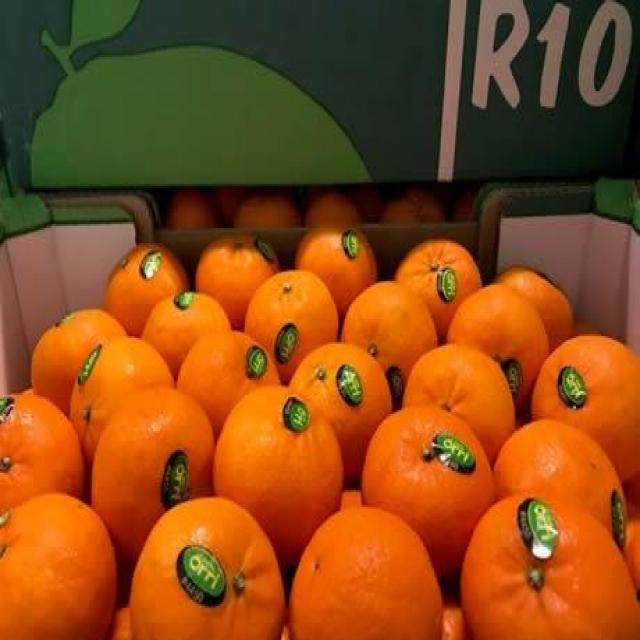10_tangerine: (451, 486, 639, 640), (207, 388, 350, 557), (286, 490, 444, 640), (129, 491, 287, 640), (356, 404, 496, 572), (89, 390, 205, 558), (495, 416, 626, 562), (0, 493, 118, 640), (528, 328, 640, 476), (63, 331, 175, 466), (396, 345, 518, 466), (290, 338, 392, 479), (446, 284, 556, 406), (171, 326, 283, 444), (336, 277, 435, 402), (0, 392, 83, 534), (28, 306, 128, 414), (244, 268, 340, 377), (134, 290, 239, 373), (107, 237, 190, 336), (292, 221, 382, 312), (395, 240, 478, 331), (198, 233, 280, 323)
